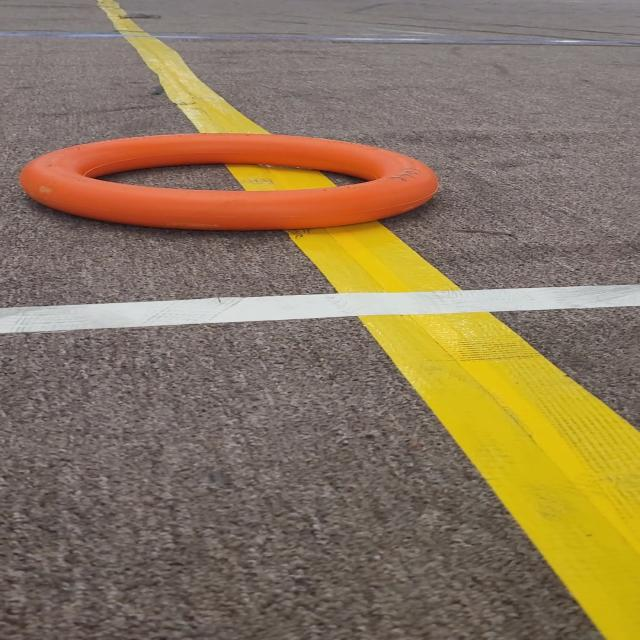note: (21, 126, 504, 241)
